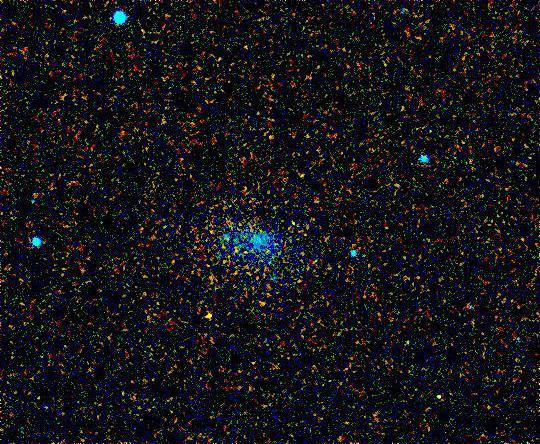star: (195, 300, 225, 330)
